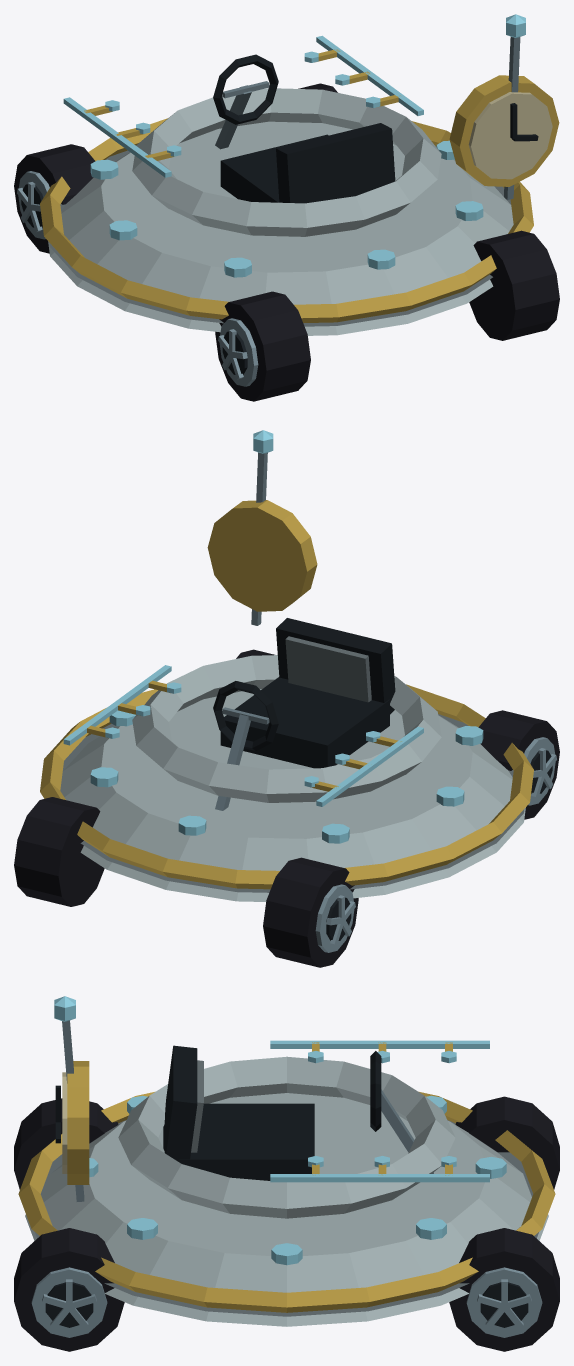
The model's file is kart.glb.
The picture shows the model from 3 angles, top to bottom: view 1: azimuth 30°, elevation 25°; view 2: azimuth 150°, elevation 25°; view 3: azimuth 270°, elevation 25°; orthographic projection. The views are drawn at different scales.
Parts seen in each view (by area): view 1: identity-saucer-saucer-double-rim, identity-saucer-driver-cockpit, identity-saucer-motif-clock, wheel-rear-left, wheel-rear-right, wheel-front-left, identity-saucer-motif-circuit, identity-saucer-motif-antenna; view 2: identity-saucer-saucer-double-rim, identity-saucer-driver-cockpit, identity-saucer-motif-clock, wheel-front-left, wheel-front-right, wheel-rear-left, identity-saucer-motif-circuit, identity-saucer-motif-antenna; view 3: identity-saucer-saucer-double-rim, identity-saucer-driver-cockpit, wheel-front-right, wheel-rear-right, identity-saucer-motif-circuit, wheel-front-left, identity-saucer-motif-clock, wheel-rear-left, identity-saucer-motif-antenna.
Part boxes in pixels (x1,y1,x2,y2): identity-saucer-saucer-double-rim: (40, 88, 533, 335); identity-saucer-driver-cockpit: (213, 54, 395, 203); identity-saucer-motif-clock: (449, 75, 559, 186); wheel-rear-left: (215, 291, 310, 401); wheel-rear-right: (469, 230, 559, 340); wheel-front-left: (14, 144, 95, 253); identity-saucer-motif-circuit: (63, 35, 423, 177); identity-saucer-motif-antenna: (504, 14, 525, 199); identity-saucer-saucer-double-rim: (40, 655, 533, 901); identity-saucer-driver-cockpit: (213, 618, 395, 810); identity-saucer-motif-clock: (207, 500, 317, 611); wheel-front-left: (263, 857, 358, 967); wheel-front-right: (14, 797, 104, 906); wheel-rear-left: (478, 710, 559, 819); identity-saucer-motif-circuit: (63, 665, 423, 806); identity-saucer-motif-antenna: (251, 430, 273, 625); identity-saucer-saucer-double-rim: (18, 1056, 555, 1326); identity-saucer-driver-cockpit: (163, 1045, 433, 1180); wheel-front-right: (449, 1228, 559, 1351); wheel-rear-right: (14, 1228, 124, 1351); identity-saucer-motif-circuit: (270, 1040, 489, 1182); wheel-front-left: (455, 1096, 559, 1189); identity-saucer-motif-clock: (55, 1061, 89, 1184); wheel-rear-left: (14, 1098, 118, 1189); identity-saucer-motif-antenna: (54, 996, 84, 1201).
Bounding box in the file's own units: 2.42 × 1.72 × 2.46.
